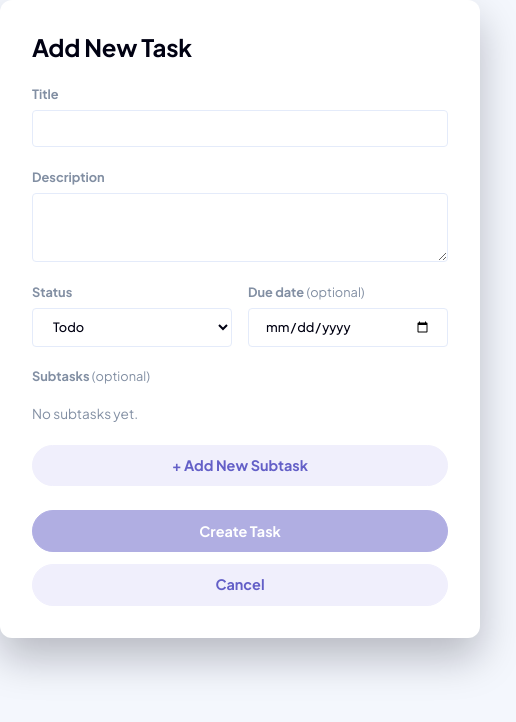
TaskFormComponent › validation UI › disables submit while the form is invalid and enables it when valid
This screenshot has width=516, height=722.
Expected: the submit button is disabled, [32,510,448,552]
In the field with id "task-title": x=240, y=129 [32,110,448,147], type "Fix the bug"
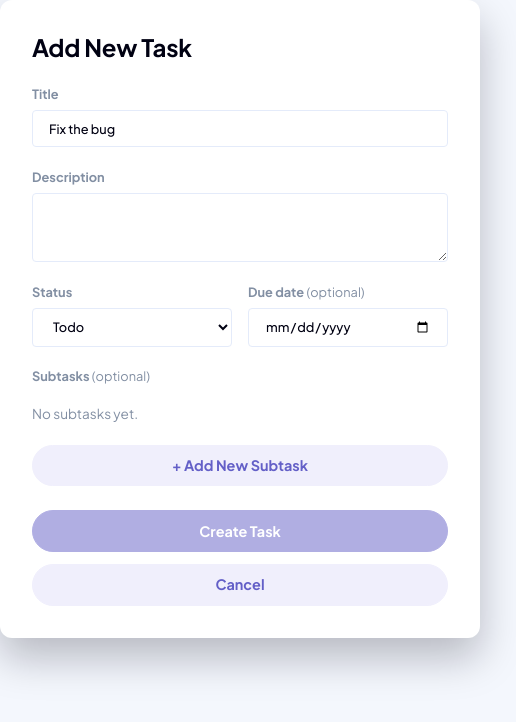
Leave the field with id "task-title", box [32,110,448,147]
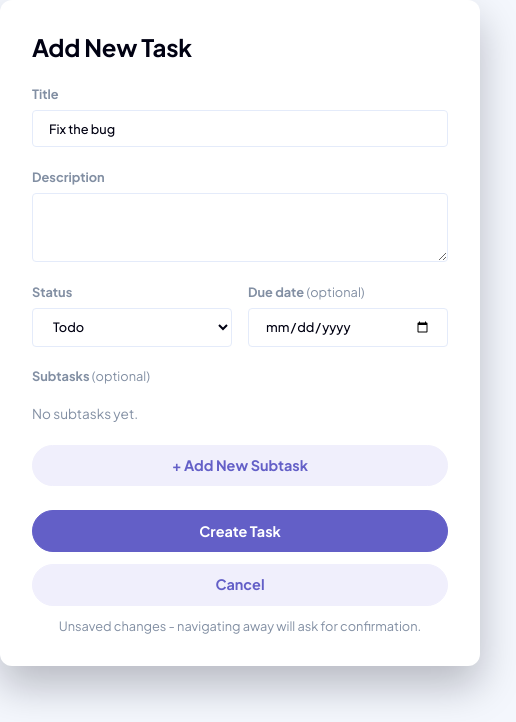
Expected: the submit button is enabled, [32,510,448,552]
